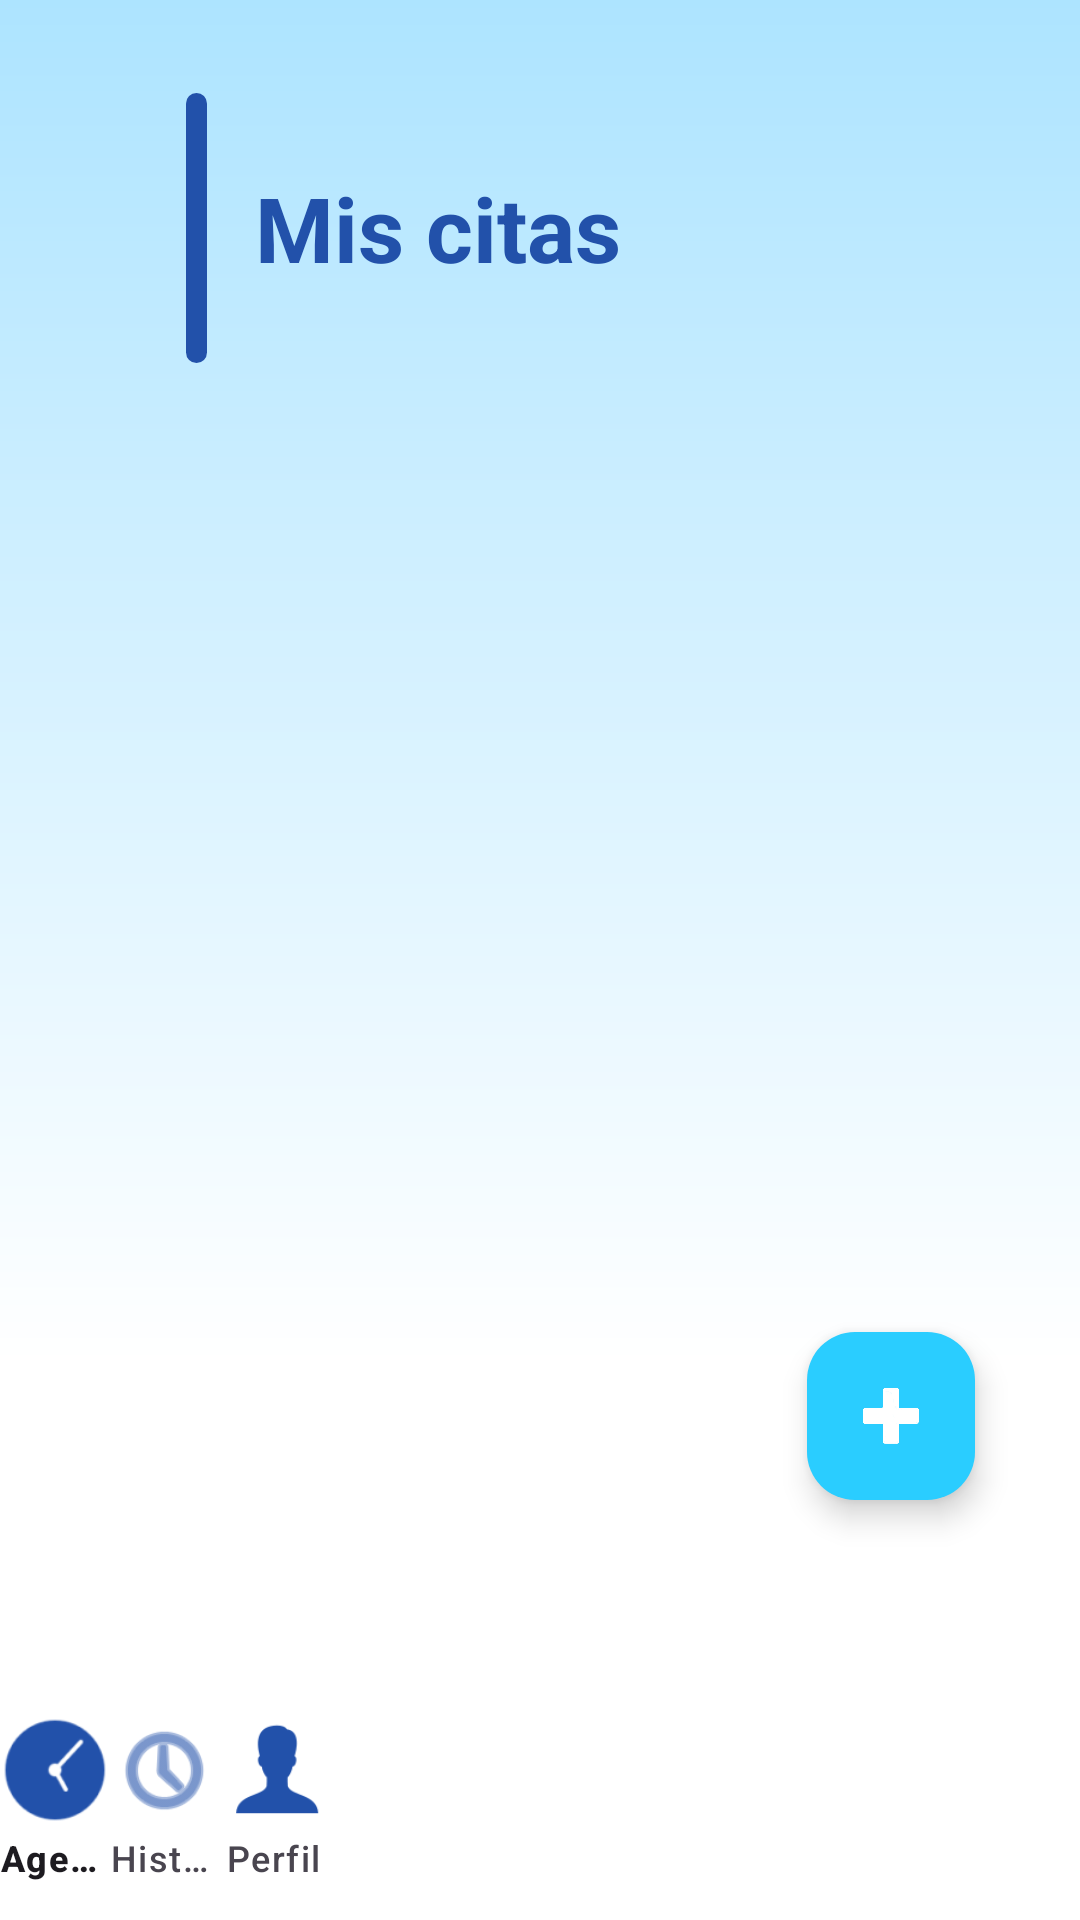

Screen size 1080w x 1920h. Icon name, then its box in pixels as (x1, y1, x2, y2):
plus: (807, 1332, 975, 1500)
